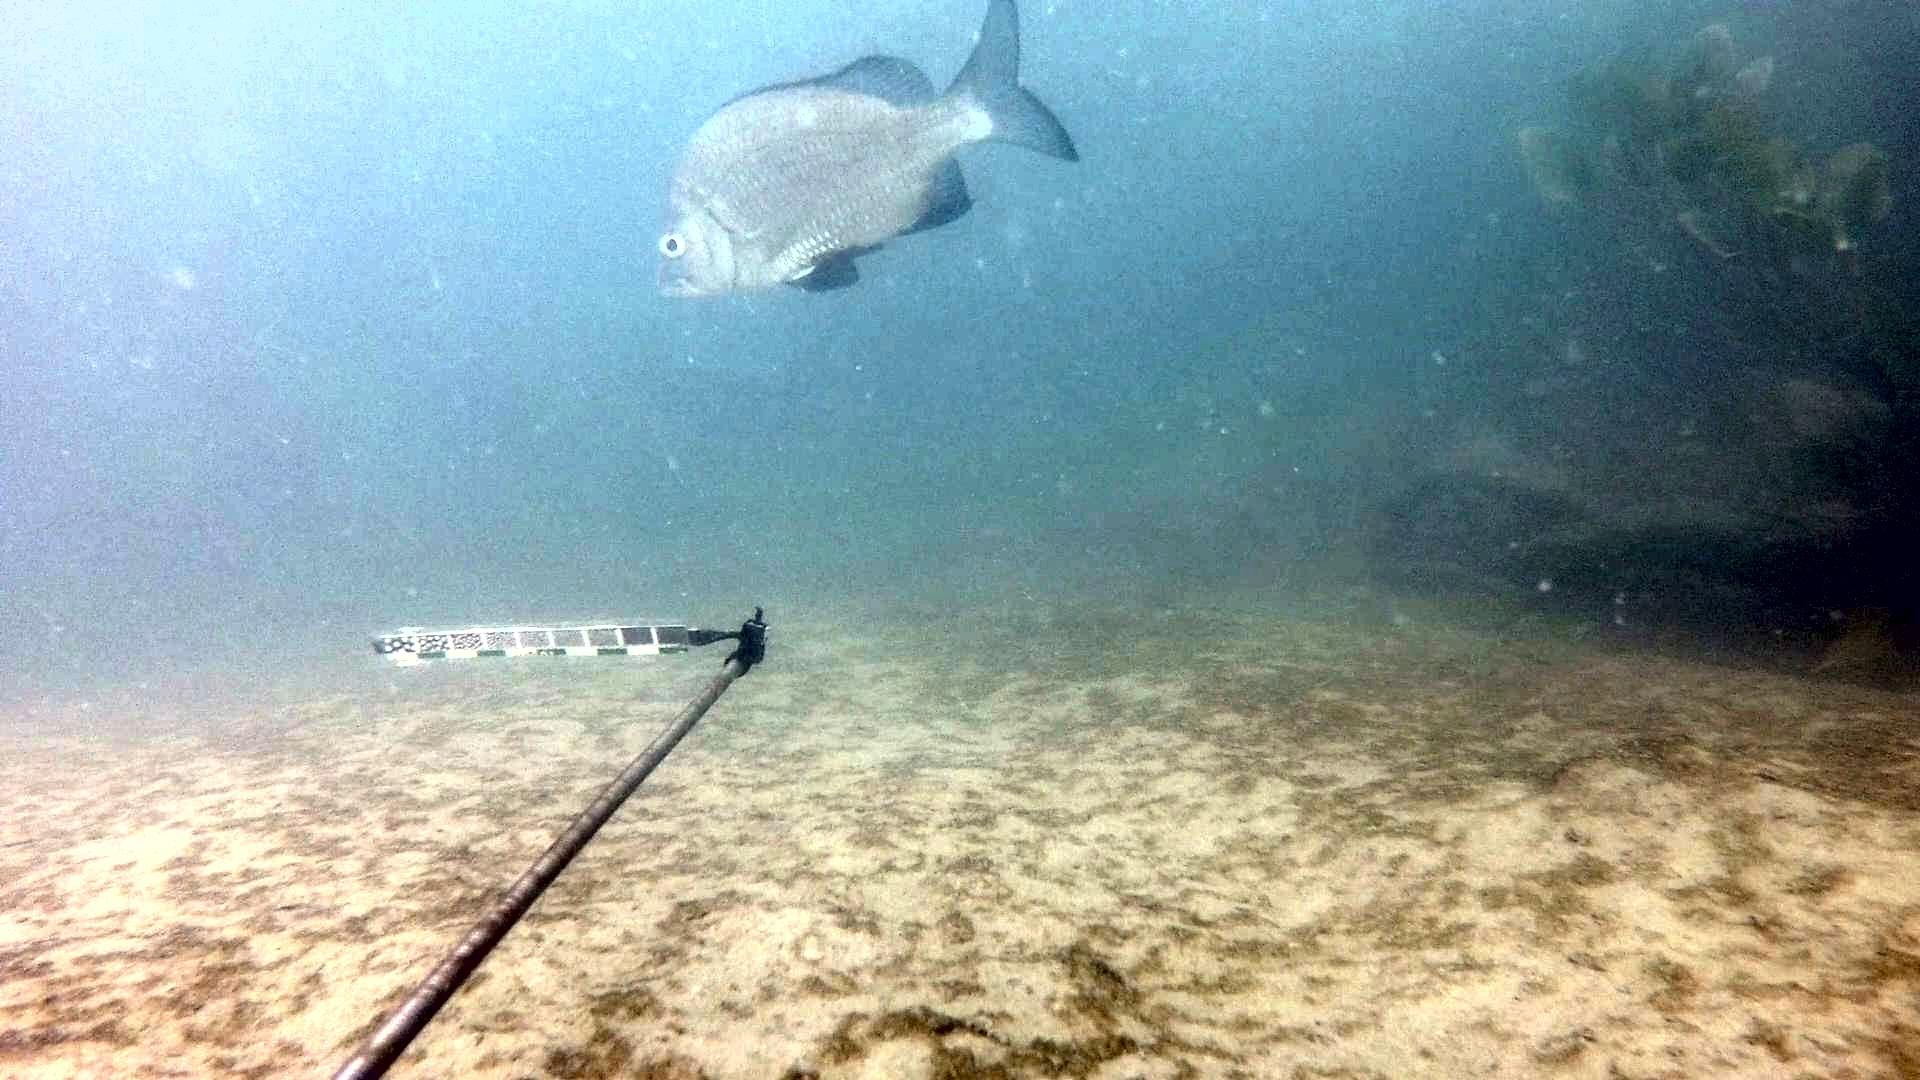acanthopagrus palmaris: (646, 0, 1092, 315)
